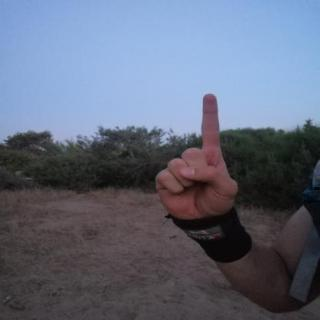BAA: (146, 86, 250, 230)
